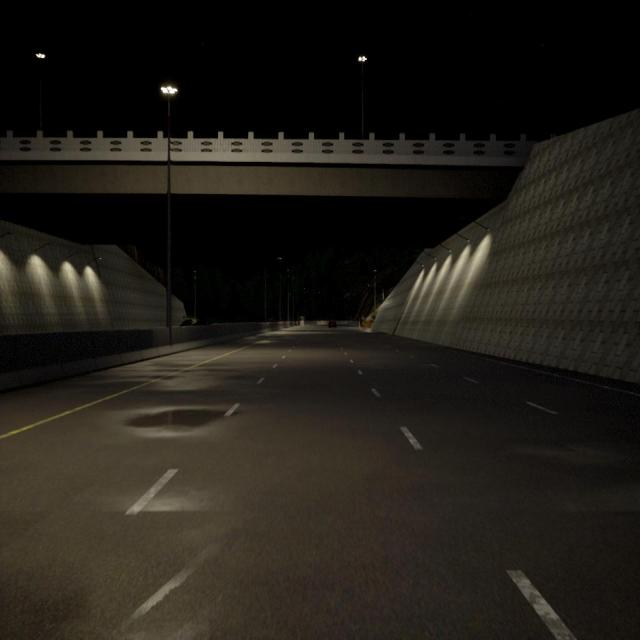Traffic_Signs: (361, 316, 364, 320)
Vehicle: (328, 320, 337, 329)
